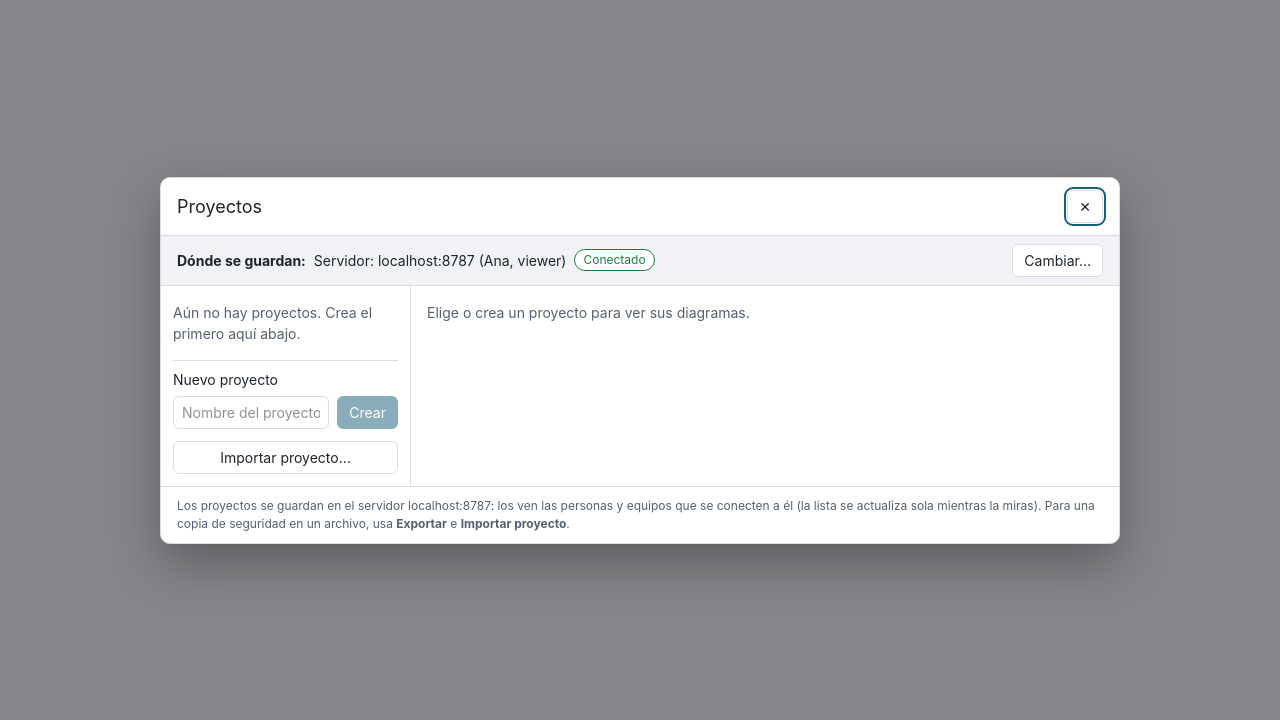
Test case: gestor de proyectos con el almacén en la nube › con los proyectos en un servidor › un error de permiso al crear (token de solo lectura) se explica y despliega «Dónde se guardan»
Type "Tienda" into the field with placeholder "Nombre del proyecto" at (251, 412), box [173,396,329,428]
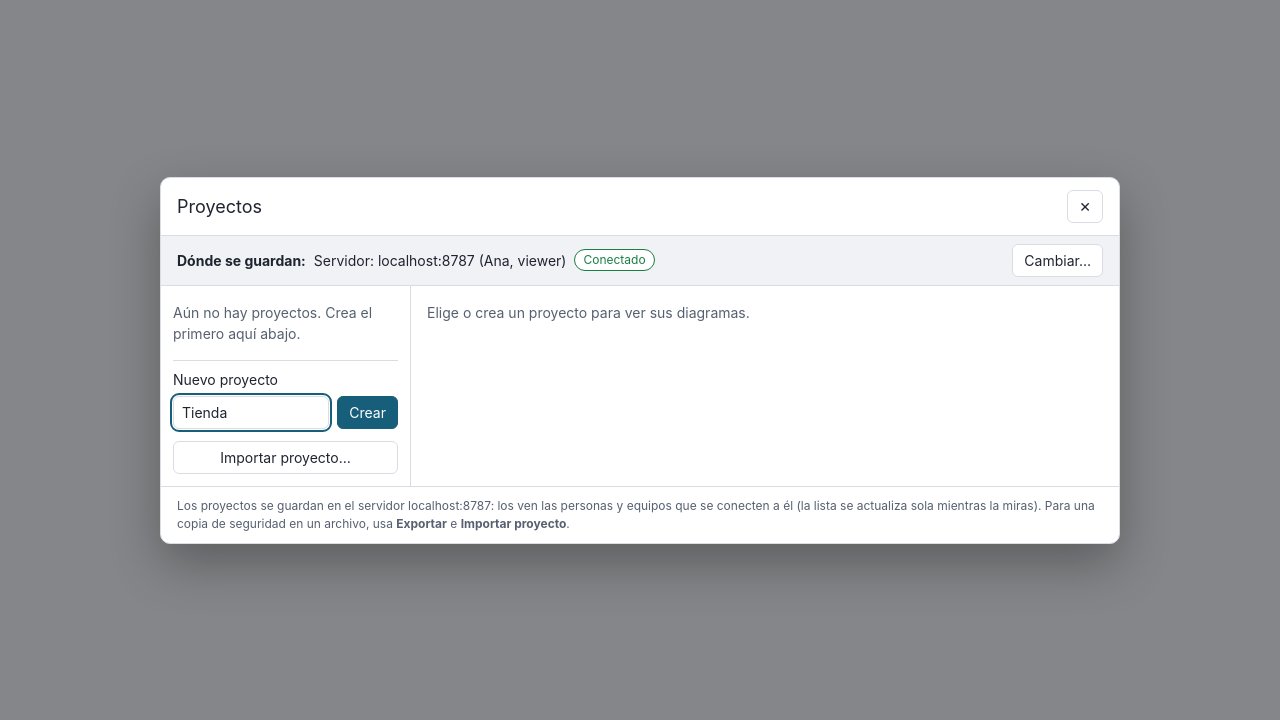
Click the button "Crear" at (368, 412), box [337,396,398,428]
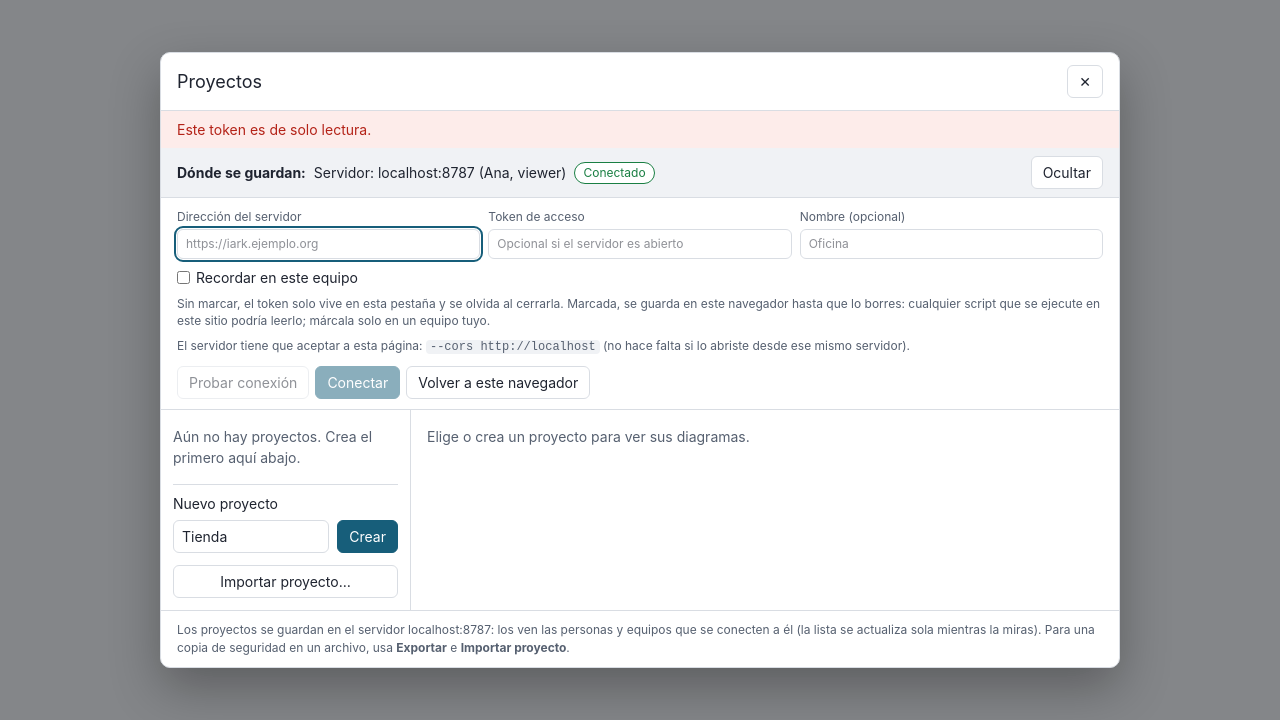
Now the message with test id "projects-error" shows "Este token es de solo lectura", box [177,121,371,138]
Now the form named "Conectar a un servidor" is shown, box [161,198,1119,399]
